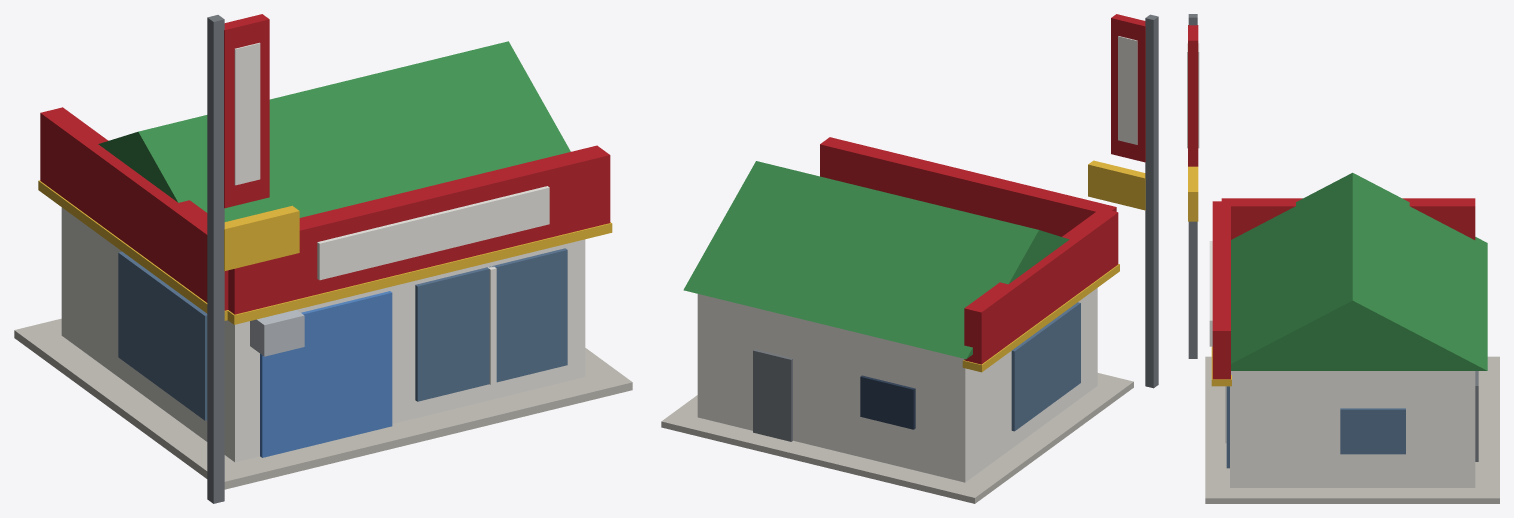
File: LM_MLhuillier.glb
3 views of the same model, side by side, from view 1: azimuth 30°, elevation 25°; view 2: azimuth 150°, elevation 25°; view 3: azimuth 270°, elevation 25° (orthographic). The views are drawn at different scales.
Parts seen in each view (by area): view 1: LM_MLhuillier; view 2: LM_MLhuillier; view 3: LM_MLhuillier.
Boxes of the visible parts, <box> form: LM_MLhuillier: <box>14,14,632,503</box>; LM_MLhuillier: <box>661,14,1158,503</box>; LM_MLhuillier: <box>1187,14,1499,503</box>.
Size of the model in its own units: 8.61 by 9.2 by 7.65.
